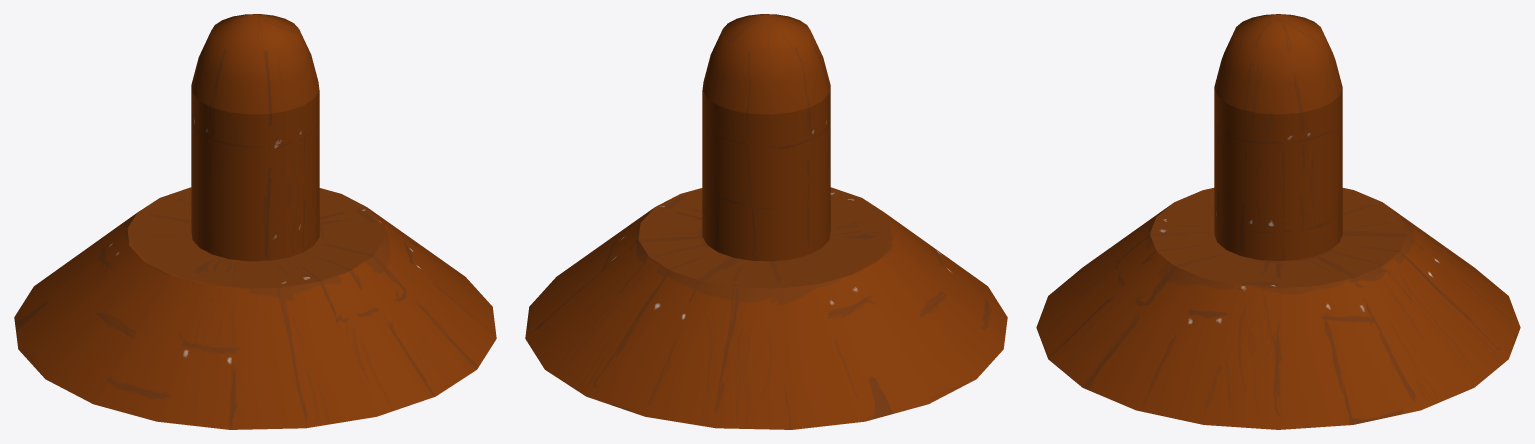
The model's file is Gun Stand.fbx.
The picture shows the model from 3 angles, left to right: view 1: azimuth 30°, elevation 25°; view 2: azimuth 150°, elevation 25°; view 3: azimuth 270°, elevation 25°; orthographic projection.
Parts seen in each view (by area): view 1: polySurface6; view 2: polySurface6; view 3: polySurface6.
Boxes of the visible parts, x1=… form: polySurface6: x1=14, y1=14, x2=496, y2=429; polySurface6: x1=525, y1=14, x2=1007, y2=429; polySurface6: x1=1036, y1=14, x2=1520, y2=429.
Bounding box in the file's own units: 9.85 × 7.02 × 9.85.
Materials: 1 (1 with a texture image).
